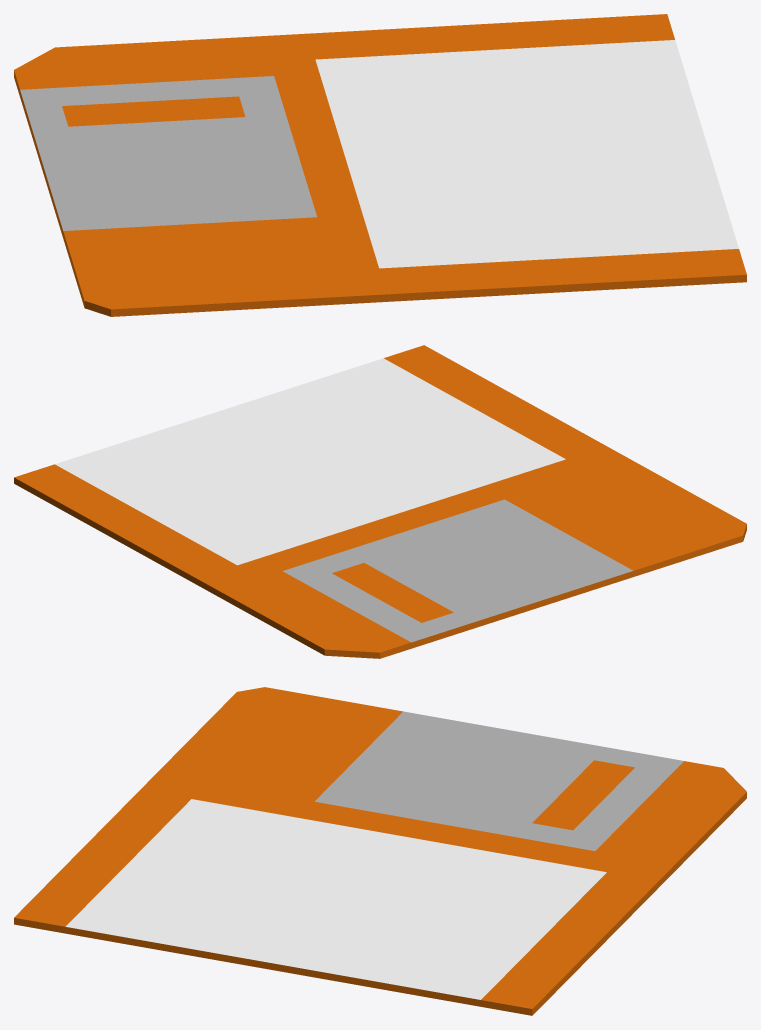
Rendered from Floppy_004.fbx.
The picture shows the model from 3 angles, top to bottom: view 1: azimuth 30°, elevation 25°; view 2: azimuth 150°, elevation 25°; view 3: azimuth 270°, elevation 25°; orthographic projection. The views are drawn at different scales.
Visible parts, largest first — view 1: Floppy.004; view 2: Floppy.004; view 3: Floppy.004.
Boxes of the visible parts, left/top/right/bottom form: Floppy.004: left=14, top=14, right=746, bottom=316; Floppy.004: left=14, top=345, right=746, bottom=658; Floppy.004: left=14, top=687, right=746, bottom=1015.
Size of the model in its own units: 25.39 by 0.25 by 24.42.
